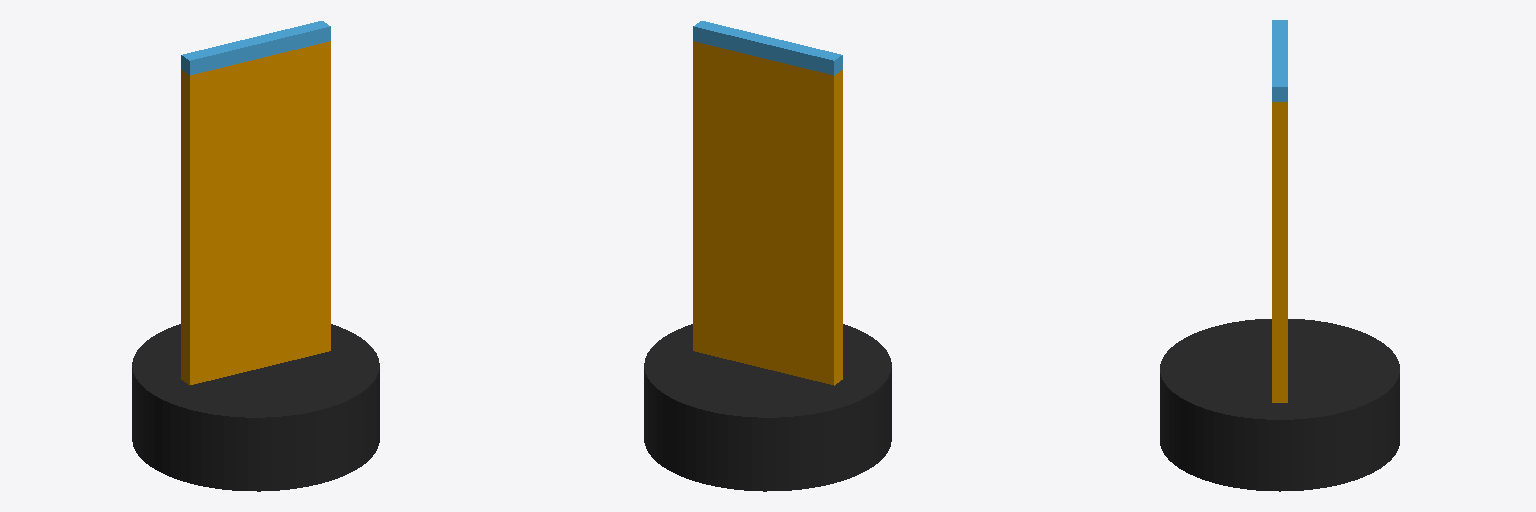
URDF robot description (spatula-base.urdf):
<?xml version="0.0" ?>
<robot name="spatula-base.urdf">
  <material name="DarkGrey">
    <color rgba="0.2 0.2 0.2 1.0"/>
  </material>

  <link name="baseLink">
    <contact>
      <lateral_friction value="1.0"/>
      <rolling_friction value="0.0001"/>
      <inertia_scaling value="3.0"/>
    </contact>
    <inertial>
      <origin rpy="0 0 0" xyz="0 0 0"/>
       <mass value=".1"/>
       <inertia ixx="1" ixy="0" ixz="0" iyy="1" iyz="0" izz="1"/>
    </inertial>
    <visual>
      <origin rpy="0 0 0" xyz="0 0 0"/>
      <geometry>
        <mesh filename="suction/base.obj" scale="0.001 0.001 0.001"/>
      </geometry>
      <material name="DarkGrey"/>
    </visual>
    <visual>
      <origin rpy="0 0 0" xyz="0 0 0.075"/>
      <geometry>
        <box size="0.05 0.005 0.11"/>
      </geometry>
      <material name="LightGrey"/>
    </visual>
    <collision>
      <origin rpy="0 0 0" xyz="0 0 0.075"/>
      <geometry>
        <box size="0.05 0.005 0.11"/>
      </geometry>
    </collision>
  </link>

  <link name="midLink">
    <contact>
      <lateral_friction value="1.0"/>
      <rolling_friction value="0.0001"/>
      <inertia_scaling value="3.0"/>
    </contact>
    <inertial>
      <origin rpy="0 0 0" xyz="0 0 0"/>
       <mass value=".1"/>
       <inertia ixx="1" ixy="0" ixz="0" iyy="1" iyz="0" izz="1"/>
    </inertial>
    <visual>
      <origin rpy="0 0 0" xyz="0 0 0.1075"/>
      <geometry>
        <box size="0.05 0.005 0.005"/>
      </geometry>
      <material name="LightGrey"/>
    </visual>
    <collision>
      <origin rpy="0 0 0" xyz="0 0 0.1075"/>
      <geometry>
        <box size="0.05 0.005 0.005"/>
      </geometry>
    </collision>
  </link>
  <joint name="baseLink-midLink" type="fixed">
    <origin rpy="0 0 0" xyz="0 0 0.025"/>
    <parent link="baseLink"/>
    <child link="midLink"/>
  </joint>


</robot>

--- Render facts (derived) ---
Views: 3 orthographic renders of the robot side by side, from view 1: azimuth 30°, elevation 25°; view 2: azimuth 150°, elevation 25°; view 3: azimuth 270°, elevation 25°.
Model spatula-base.urdf with 2 links and 1 joints (1 fixed), rooted at baseLink, posed all joints at 0.
Links seen in each view (by area): view 1: baseLink, midLink; view 2: baseLink, midLink; view 3: baseLink, midLink.
Boxes of the visible links, <box> form: baseLink: <box>132,41,379,491</box>; midLink: <box>181,21,330,75</box>; baseLink: <box>644,41,891,491</box>; midLink: <box>693,21,842,75</box>; baseLink: <box>1160,102,1399,491</box>; midLink: <box>1272,20,1287,101</box>.
Size in the robot's own frame: 0.076 by 0.076 by 0.135 metres.
1 mesh visuals loaded from 1 distinct referenced files (1 OBJ).